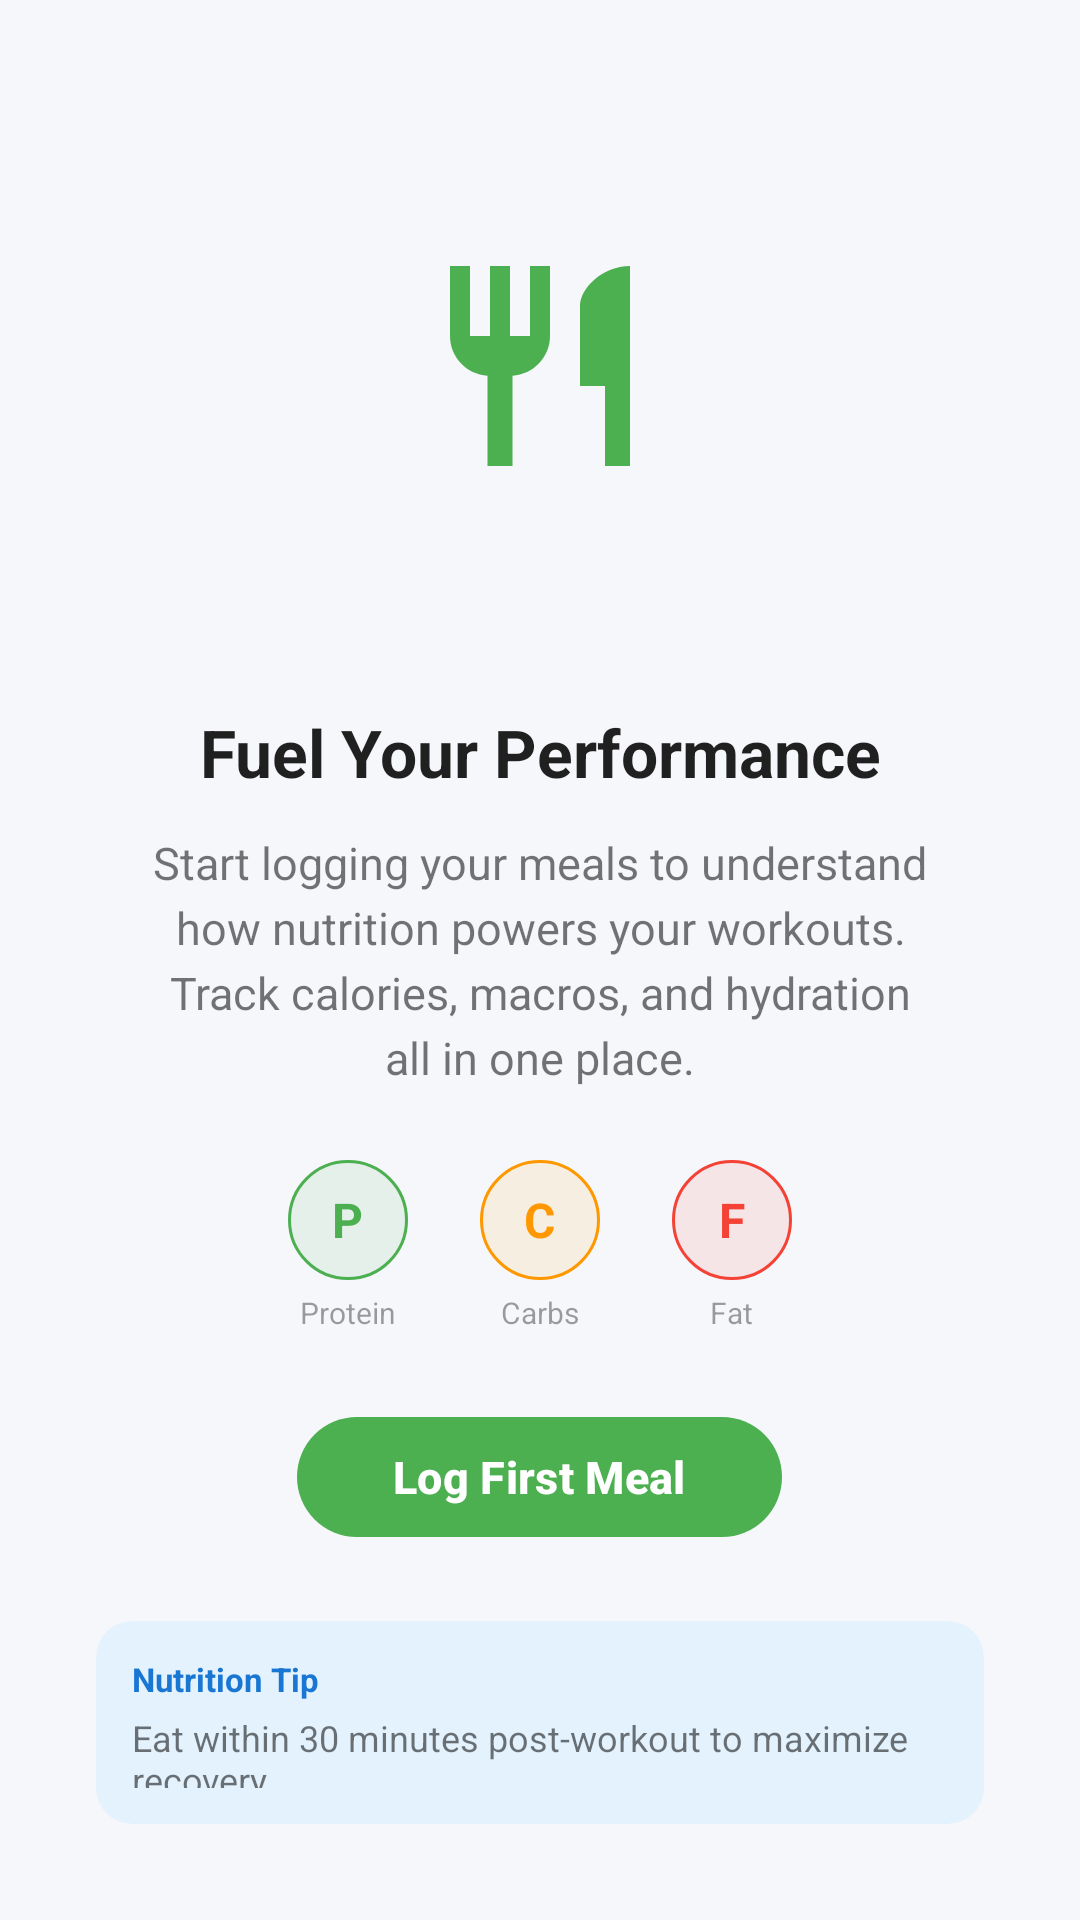

Named icons in this screenshot (1080×1920) and their bounding boxes, BBox(x1, y1, x2, y2):
Fuel Your Performance: BBox(450, 266, 630, 466)
